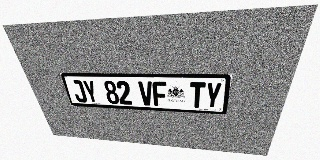2: (116, 81, 132, 105)
8: (103, 80, 120, 104)
F: (152, 81, 167, 106)
J: (70, 80, 88, 103)
T: (190, 82, 206, 108)
V: (138, 81, 154, 106)
Y: (204, 82, 222, 109), (81, 80, 99, 103)
